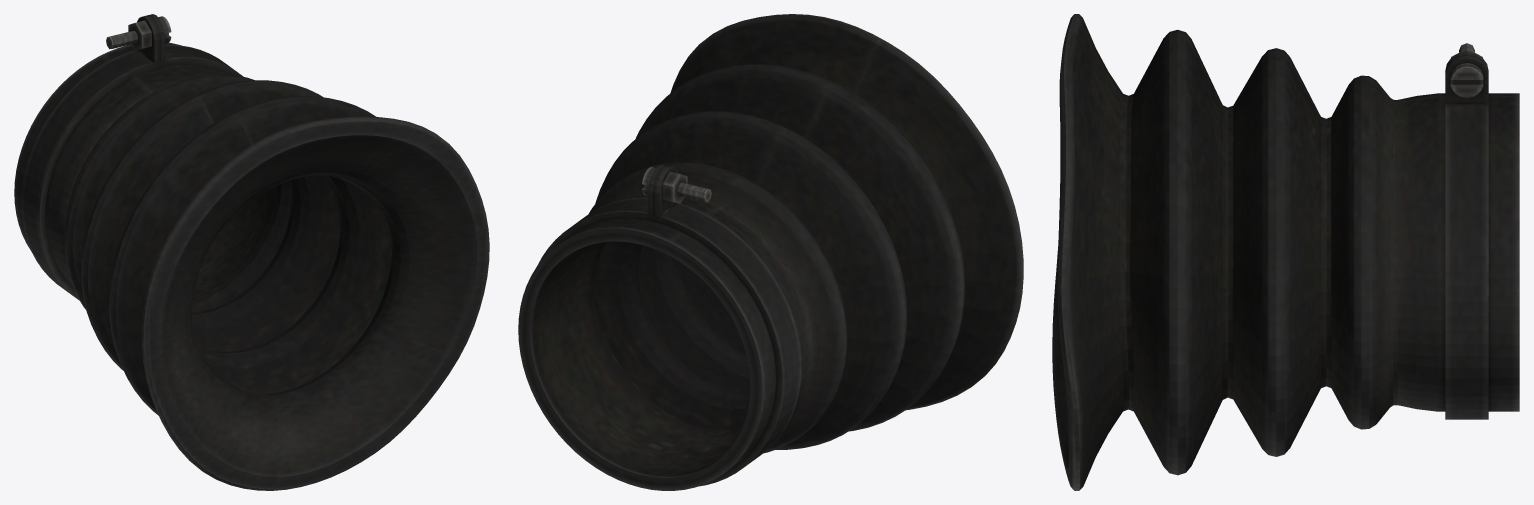
3 views of the same model, side by side, from view 1: azimuth 30°, elevation 25°; view 2: azimuth 150°, elevation 25°; view 3: azimuth 270°, elevation 25° (orthographic). The views are drawn at different scales.
Parts seen in each view (by area): view 1: TW_5cf639aad7f00c065703d455_PZ_Import; view 2: TW_5cf639aad7f00c065703d455_PZ_Import; view 3: TW_5cf639aad7f00c065703d455_PZ_Import.
Part boxes in pixels (box(x1,y1,x2,y2)): TW_5cf639aad7f00c065703d455_PZ_Import: box(14, 14, 489, 490); TW_5cf639aad7f00c065703d455_PZ_Import: box(518, 14, 1023, 490); TW_5cf639aad7f00c065703d455_PZ_Import: box(1052, 14, 1519, 490).
Size of the model in its own units: 0.0347 by 0.0339 by 0.0348.
1 material, 1 textured.
